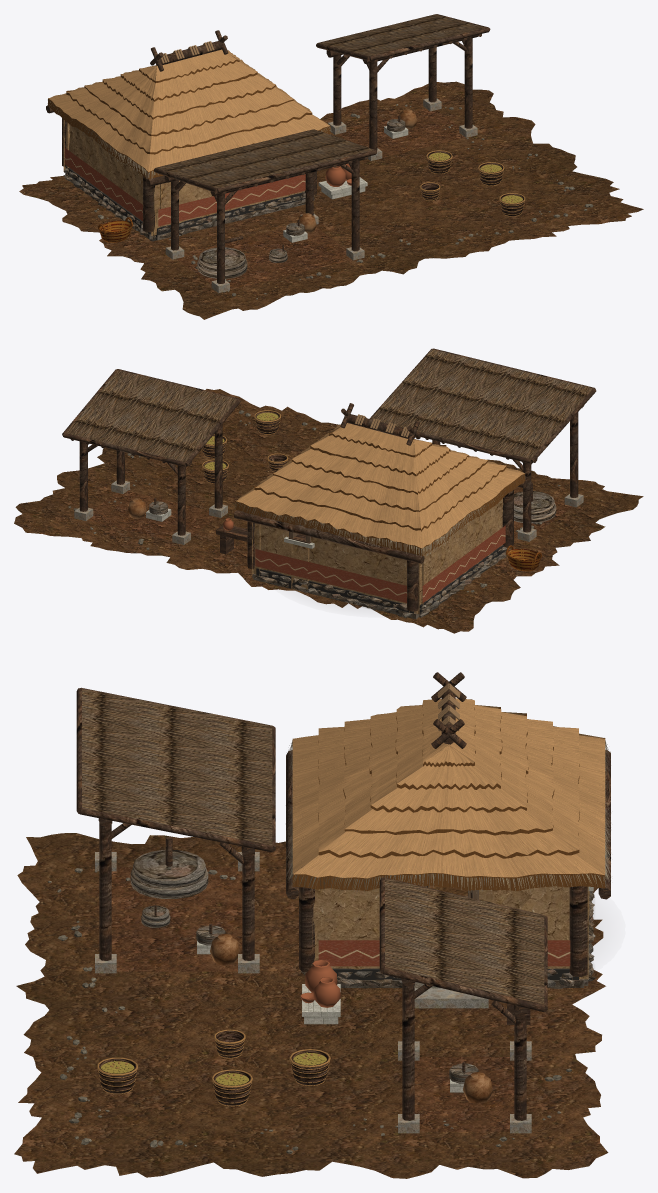
Rendered from mill.glb.
3 renders of one model, top to bottom at view 1: azimuth 30°, elevation 25°; view 2: azimuth 150°, elevation 25°; view 3: azimuth 270°, elevation 25°, orthographic. The views are drawn at different scales.
Parts seen in each view (by area): view 1: part_1, part_19, part_8, part_13, part_11, part_4, part_5, part_24, part_20, part_10, part_12, part_23 (+8 smaller); view 2: part_1, part_13, part_19, part_8, part_5, part_20, part_24, part_4, part_11, part_22, part_23, part_12 (+3 smaller); view 3: part_1, part_19, part_13, part_8, part_11, part_20, part_5, part_4, part_12, part_10, part_22, part_24 (+6 smaller).
Part boxes in pixels (left/top/right/bottom): part_1: left=19, top=81, right=643, bottom=319; part_19: left=48, top=49, right=329, bottom=171; part_8: left=46, top=14, right=490, bottom=283; part_13: left=157, top=14, right=485, bottom=188; part_11: left=176, top=108, right=465, bottom=289; part_4: left=63, top=119, right=405, bottom=278; part_5: left=63, top=120, right=314, bottom=235; part_24: left=64, top=148, right=305, bottom=226; part_20: left=48, top=57, right=330, bottom=179; part_10: left=421, top=151, right=524, bottom=216; part_12: left=165, top=98, right=477, bottom=293; part_23: left=66, top=166, right=305, bottom=239; part_1: left=14, top=389, right=643, bottom=633; part_13: left=65, top=349, right=592, bottom=462; part_19: left=236, top=423, right=524, bottom=548; part_8: left=62, top=348, right=596, bottom=611; part_5: left=251, top=498, right=503, bottom=614; part_20: left=235, top=428, right=525, bottom=556; part_24: left=255, top=525, right=505, bottom=602; part_4: left=149, top=491, right=556, bottom=619; part_11: left=87, top=488, right=572, bottom=540; part_22: left=235, top=474, right=525, bottom=556; part_23: left=256, top=545, right=506, bottom=614; part_12: left=74, top=480, right=583, bottom=544; part_1: left=14, top=833, right=608, bottom=1178; part_19: left=292, top=698, right=605, bottom=878; part_13: left=82, top=688, right=544, bottom=1004; part_8: left=76, top=672, right=610, bottom=1120; part_11: left=111, top=867, right=514, bottom=1131; part_20: left=292, top=705, right=605, bottom=890; part_5: left=312, top=808, right=589, bottom=979; part_4: left=130, top=850, right=596, bottom=1083; part_12: left=95, top=852, right=531, bottom=1133; part_10: left=98, top=1030, right=328, bottom=1106; part_22: left=286, top=740, right=610, bottom=893; part_24: left=318, top=940, right=570, bottom=966.
Size of the model in its own units: 9.13 by 2.93 by 6.99.
25 materials, 18 textured.
